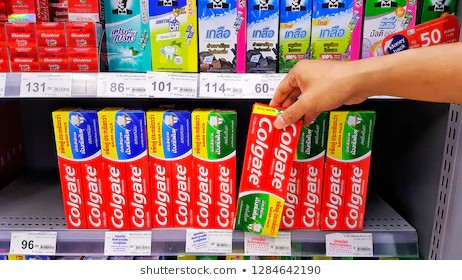colgate-family: (237, 113, 309, 228), (319, 108, 375, 232), (192, 112, 240, 228), (55, 106, 100, 227), (101, 108, 145, 229), (152, 110, 192, 228)
